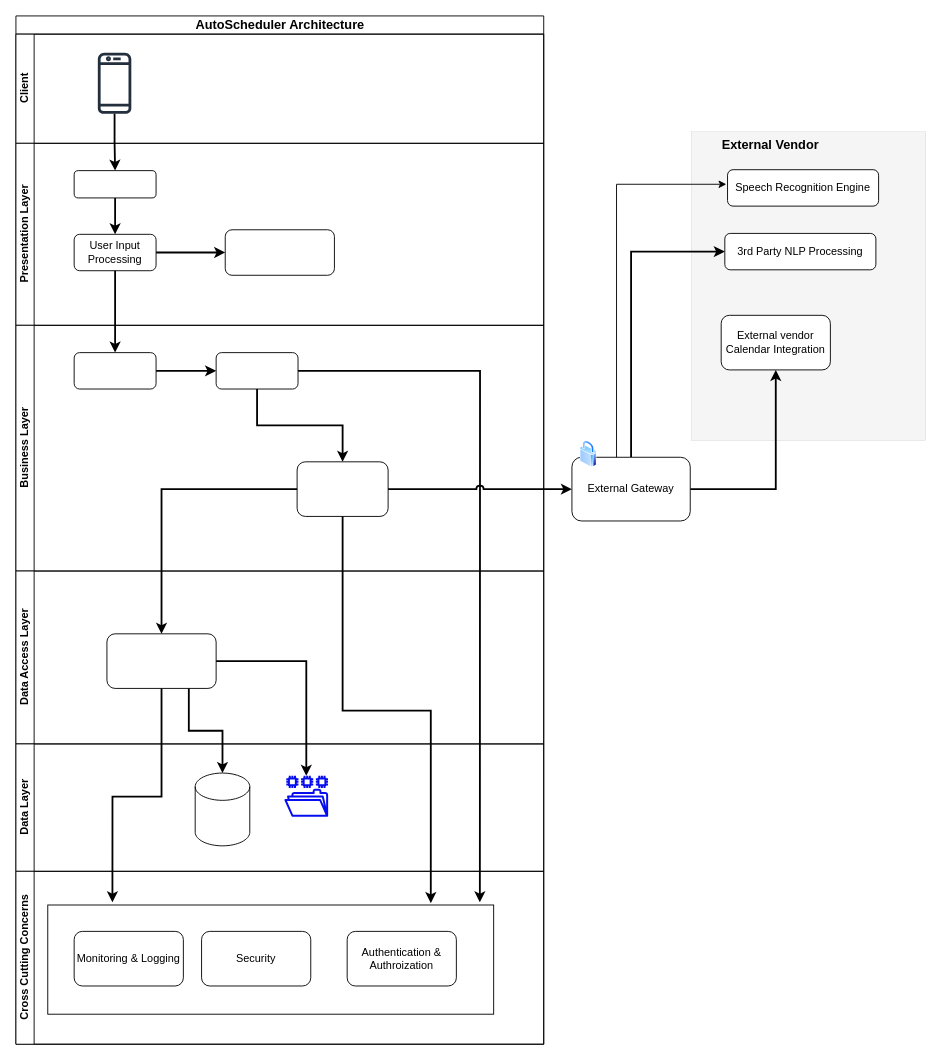
This 942x1060 diagram has some shape labels left out. The centre of each missing label's shape, as x and y in pixels:
"API Gateway" belongs at [114,370].
"AutoScheduler Internal Engine" belongs at [256,370].
"AutoScheduler Orchestration Engine" belongs at [342,488].
"Data API" belongs at [161,660].
"Database" belongs at [222,809].
"File Storages" belongs at [306,795].
"Local Data Caching" belongs at [279,252].
"Mobile UI" belongs at [114,184].
